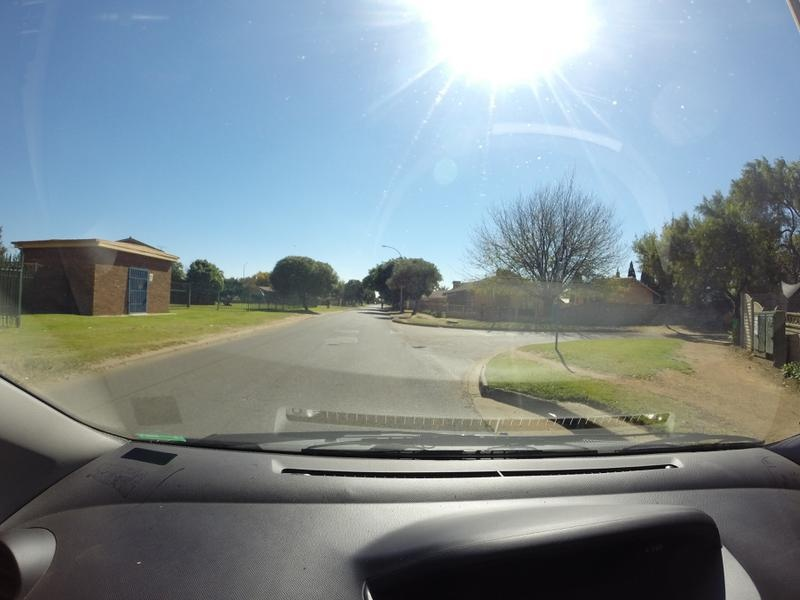pothole: (389, 342, 432, 352)
